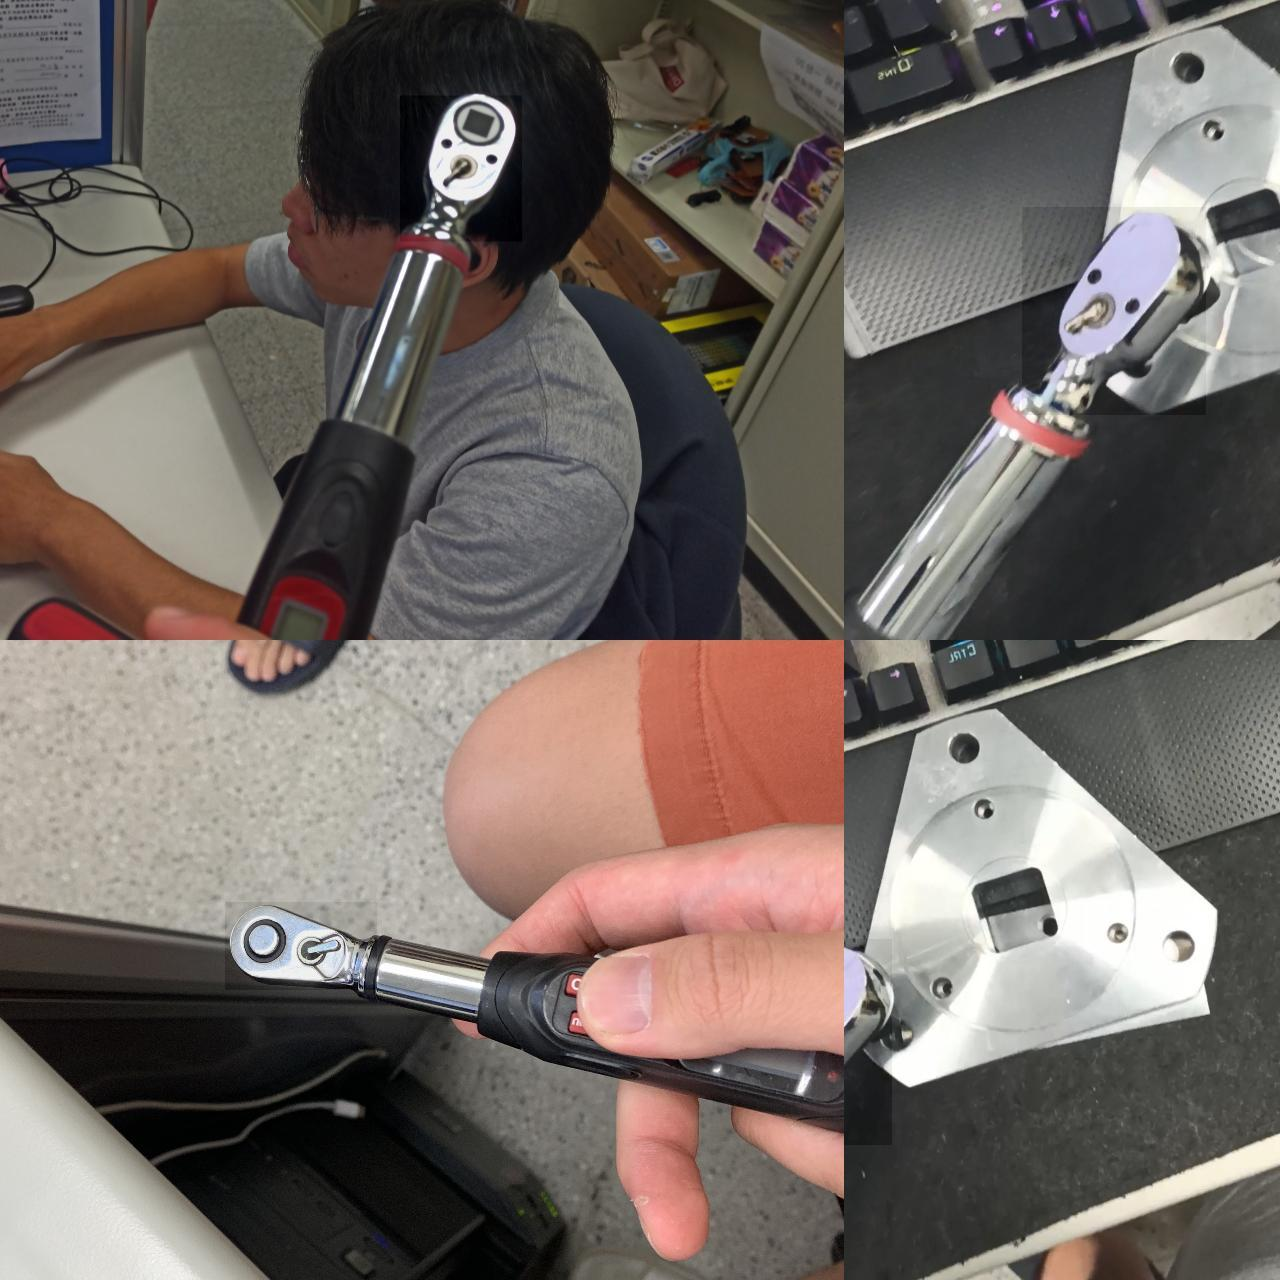Tool: (1023, 209, 1213, 420), (399, 95, 522, 241), (229, 900, 380, 986), (844, 934, 898, 1069)
hole: (945, 723, 989, 771), (1156, 927, 1201, 973), (1164, 53, 1210, 91), (879, 1016, 912, 1057), (924, 971, 954, 1008), (1197, 118, 1230, 149), (1107, 918, 1129, 946), (975, 799, 998, 826)
